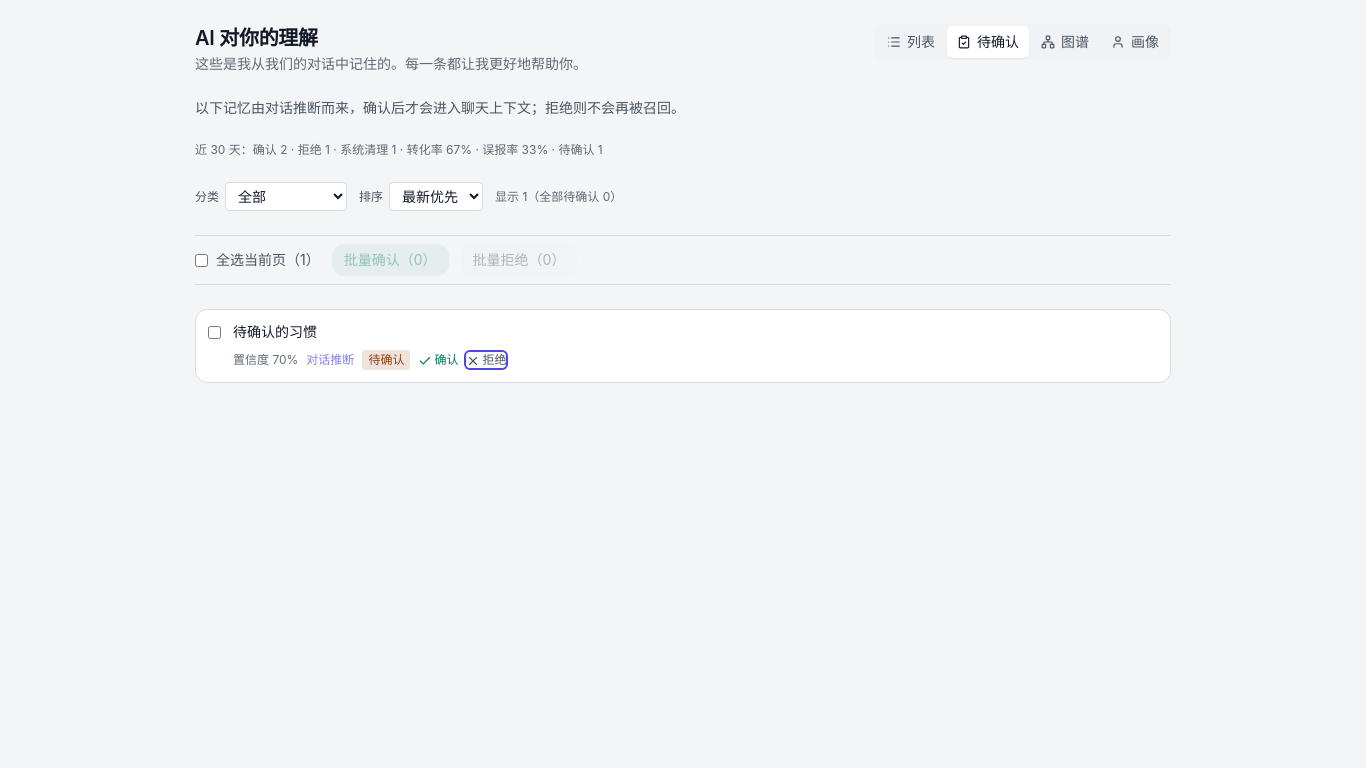
MemoriesPage › closes the reject dialog on Escape and returns focus
The image size is (1366, 768).
Step 1. Click the button with aria-label "拒绝：" → [486, 360], box [466,352,506,368]
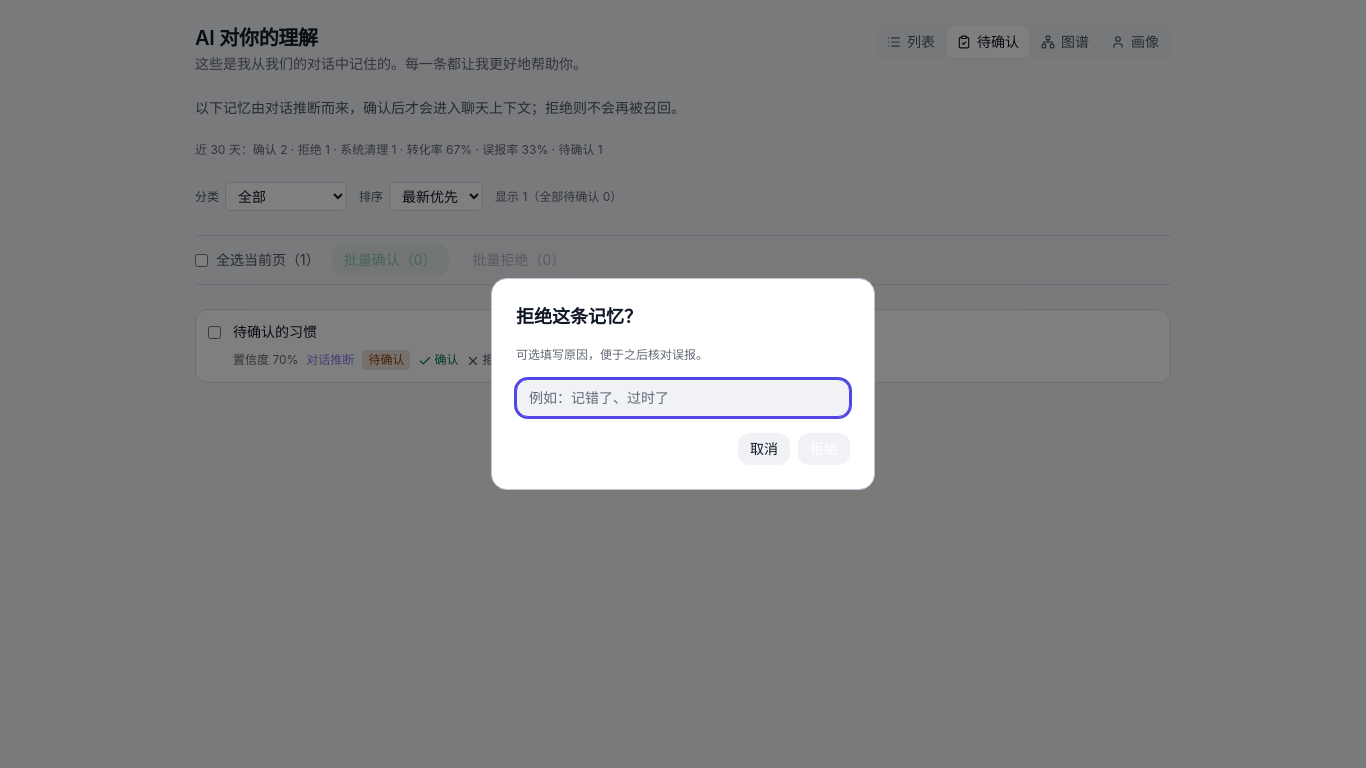
Step 2. Press Escape
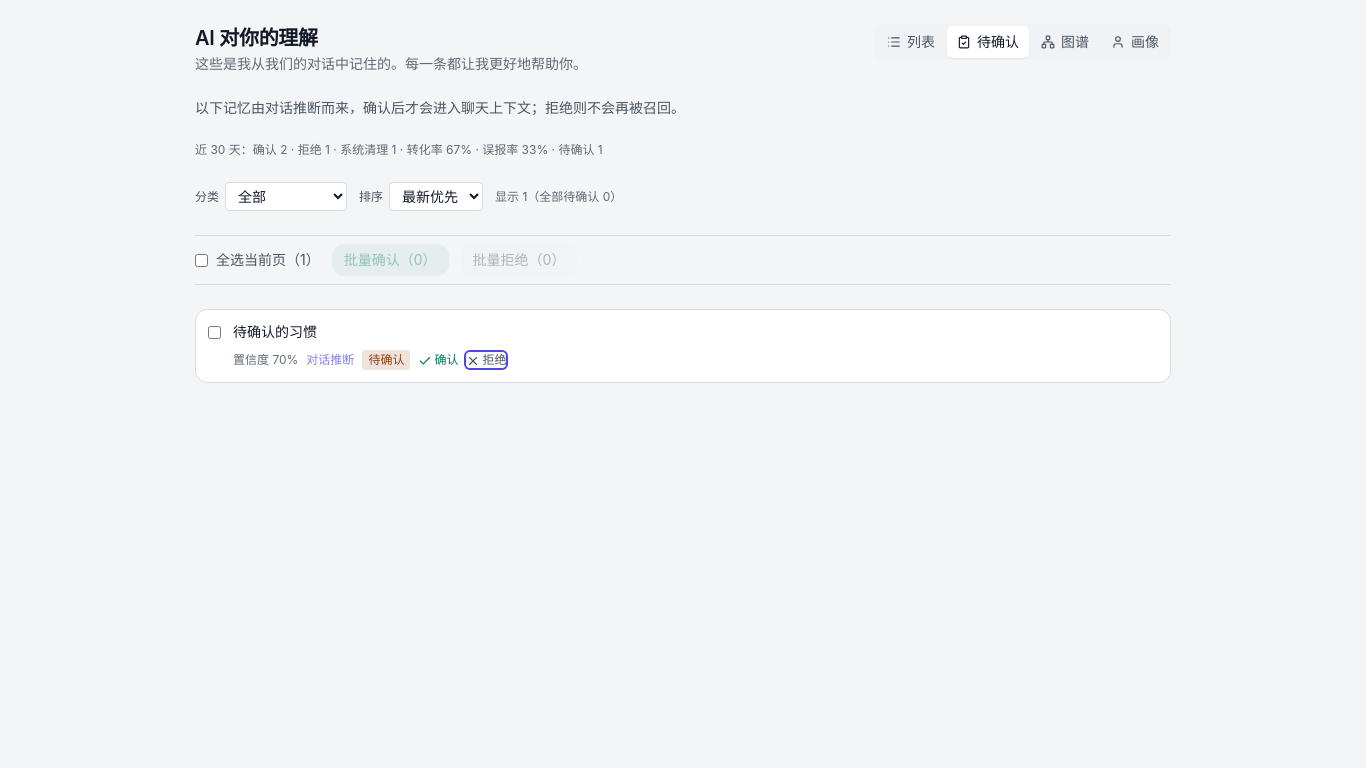
Expected: the heading "拒绝这条记忆？" is gone
